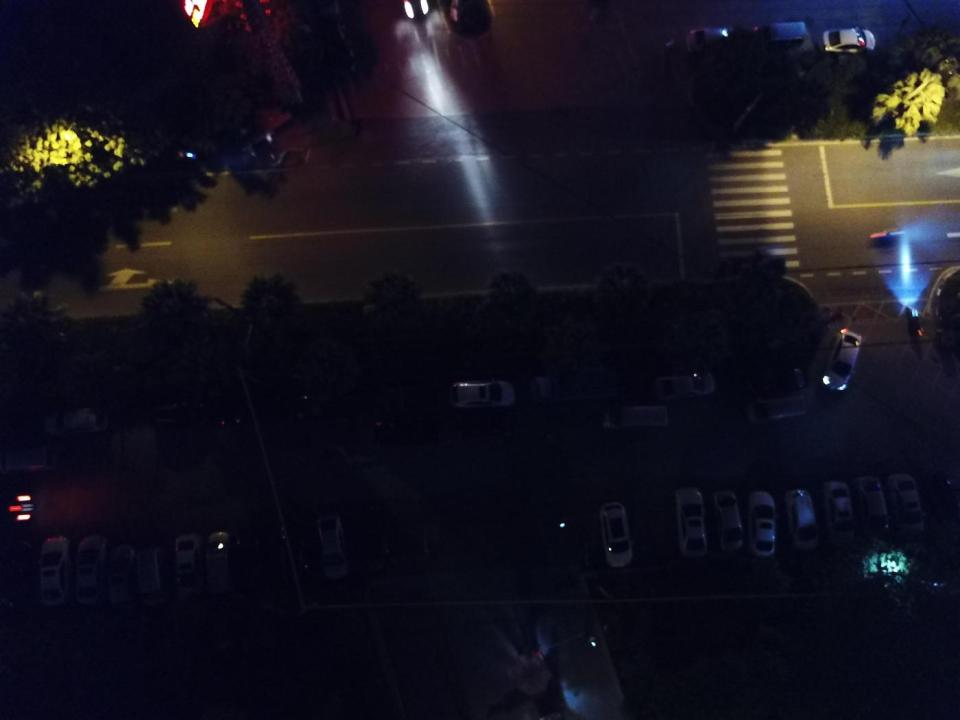car: (887, 472, 928, 545), (34, 535, 74, 609), (72, 535, 110, 607), (781, 487, 822, 553), (821, 328, 862, 393), (821, 480, 858, 551), (597, 501, 636, 568), (315, 512, 352, 581), (173, 532, 207, 604), (675, 485, 709, 557), (40, 405, 109, 440), (0, 539, 34, 610), (373, 384, 440, 420), (449, 378, 519, 412), (205, 532, 238, 604), (746, 489, 780, 558), (858, 476, 891, 545), (740, 364, 809, 396), (712, 489, 746, 552), (654, 371, 718, 402), (108, 544, 135, 611), (822, 26, 876, 54), (685, 25, 740, 52)
truck: (526, 364, 620, 410)
van: (135, 545, 169, 608), (0, 444, 60, 479), (748, 394, 809, 427), (602, 404, 669, 433), (753, 20, 808, 50)
